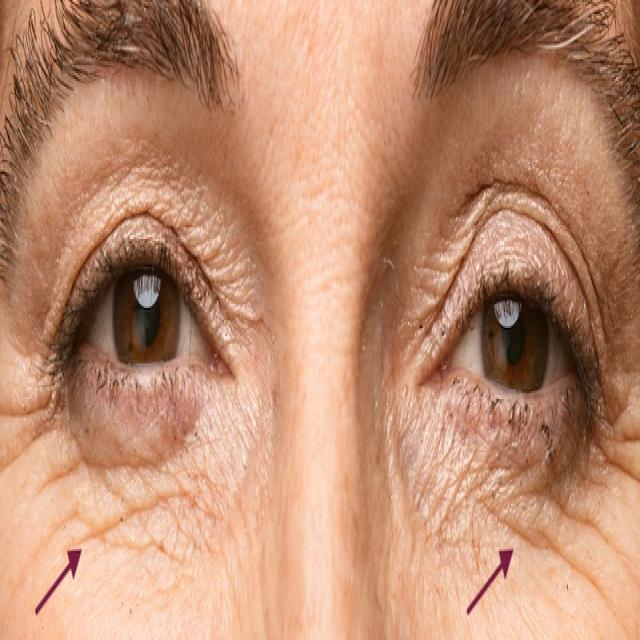Wrinkles: (480, 505, 622, 629), (512, 486, 614, 551), (1, 380, 66, 476), (74, 490, 187, 544), (597, 440, 640, 482), (35, 461, 81, 498), (616, 432, 640, 444)
